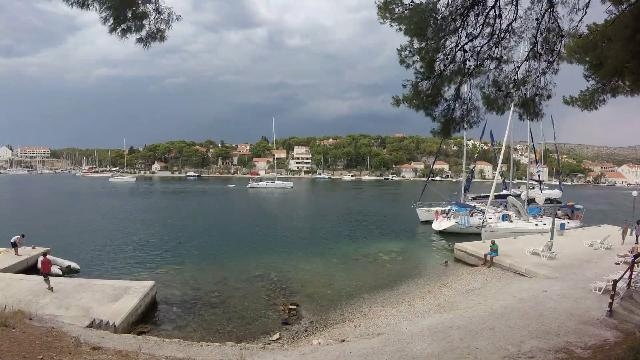Sailboat: (243, 175, 297, 192), (106, 172, 140, 187)
